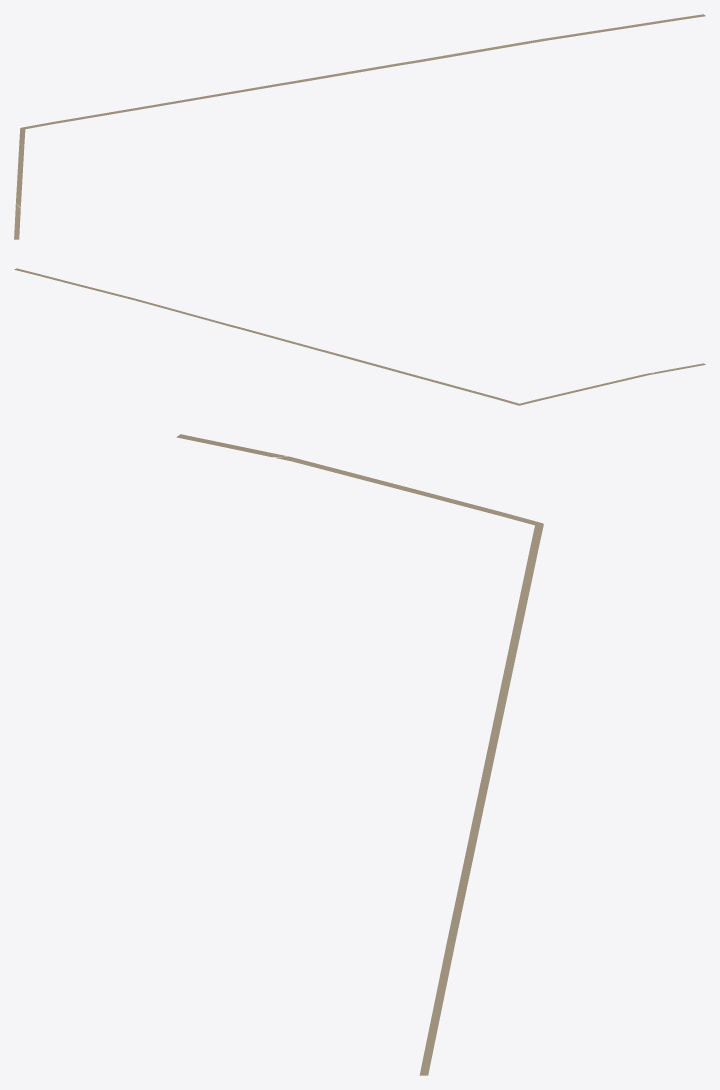
File: farm_3_13_track.glb
3 views of the same model, one above another, from view 1: azimuth 30°, elevation 25°; view 2: azimuth 150°, elevation 25°; view 3: azimuth 270°, elevation 25° (orthographic). The views are drawn at different scales.
Parts seen in each view (by area): view 1: geometry_0; view 2: geometry_0; view 3: geometry_0.
Boxes of the visible parts, bbox=[...] form: geometry_0: bbox=[14, 14, 705, 239]; geometry_0: bbox=[14, 268, 705, 405]; geometry_0: bbox=[176, 434, 543, 1075].
Size of the model in its own units: 555 by 13.65 by 140.
